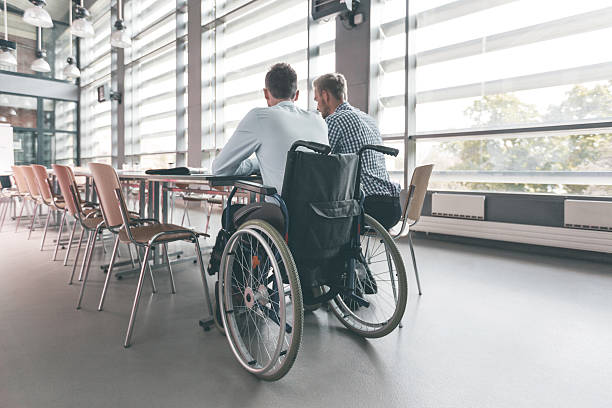wheel_chair: (202, 135, 427, 391)
